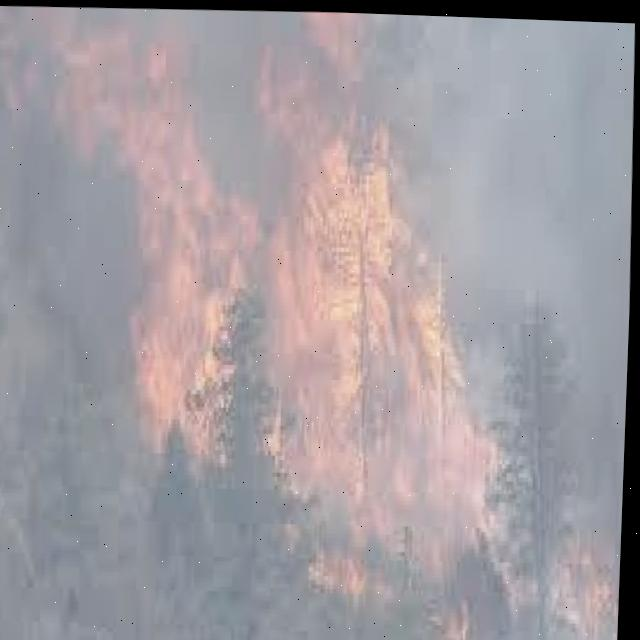fire: (153, 142, 447, 546)
smoke: (0, 121, 151, 640), (439, 13, 634, 365)
